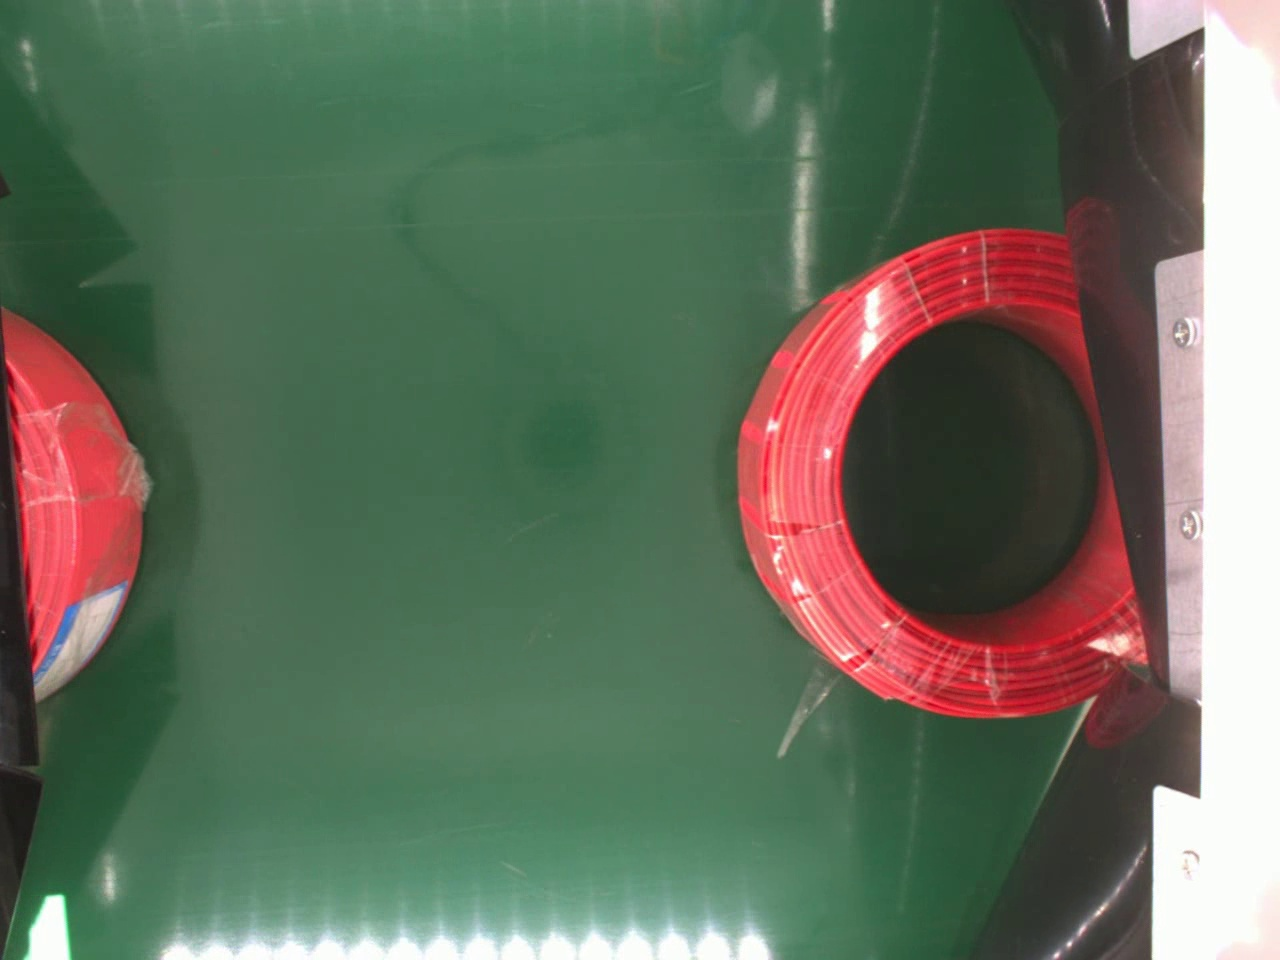red: (732, 225, 1142, 723), (0, 302, 143, 702)
